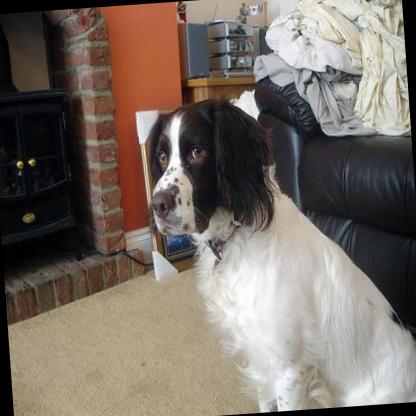English_springer: (140, 72, 416, 416)
